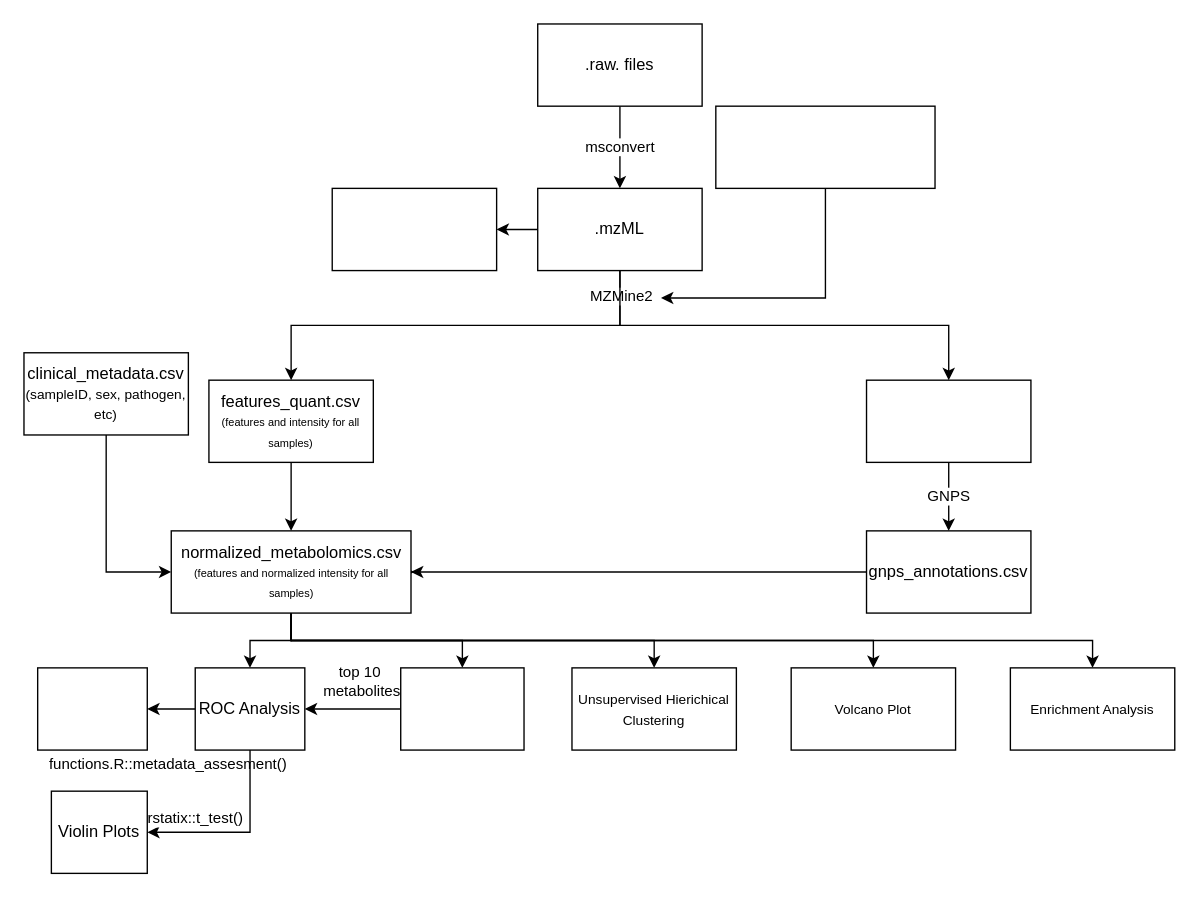
Image size: 1199x897. Some labels were removed from this diagram. Each missing label, with the box of its shape:
EFS Biomarker Analysis: (399, 667, 524, 750)
MASSIVE: (331, 187, 497, 271)
metabolomics_mapping.csv (sampleID, filename): (714, 105, 935, 188)
Metadata Assesment: (36, 667, 147, 750)
MS2 features.mgf: (865, 379, 1031, 462)
